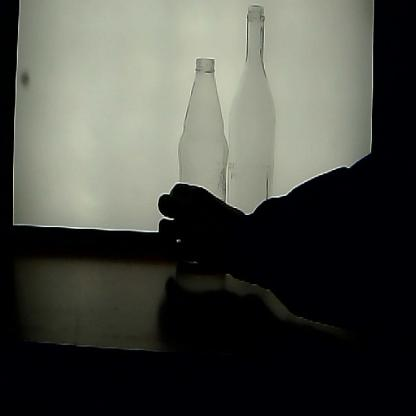Can: (174, 54, 230, 275), (229, 10, 275, 272)
